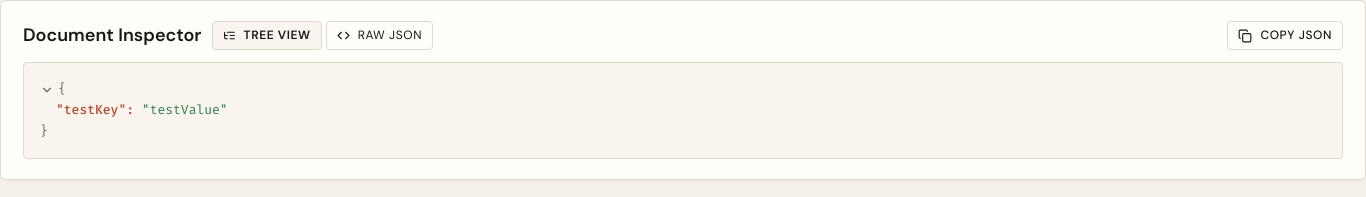
Scenario: Milestone 2 Adversarial & Empirical Stress Suite (Database Explorer) › Adversarial JSON Inspector Stress › handles clipboard copy and falls back cleanly if clipboard API fails
Click the button "Copy JSON".
click(1285, 36)  # box left=1227, top=21, right=1343, bottom=50
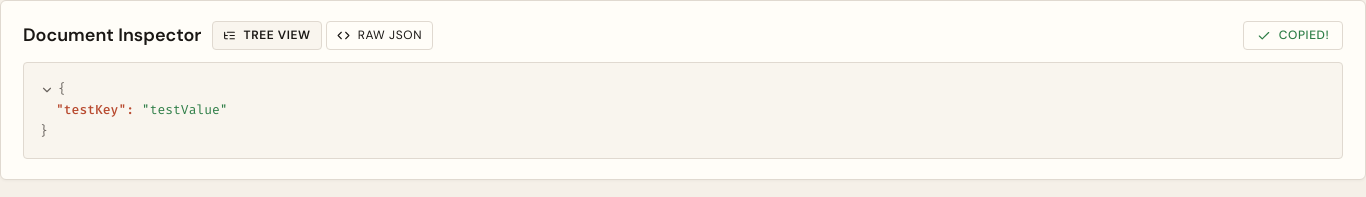
Result: the text "Copied!" is shown at left=1279, top=26, right=1329, bottom=45
